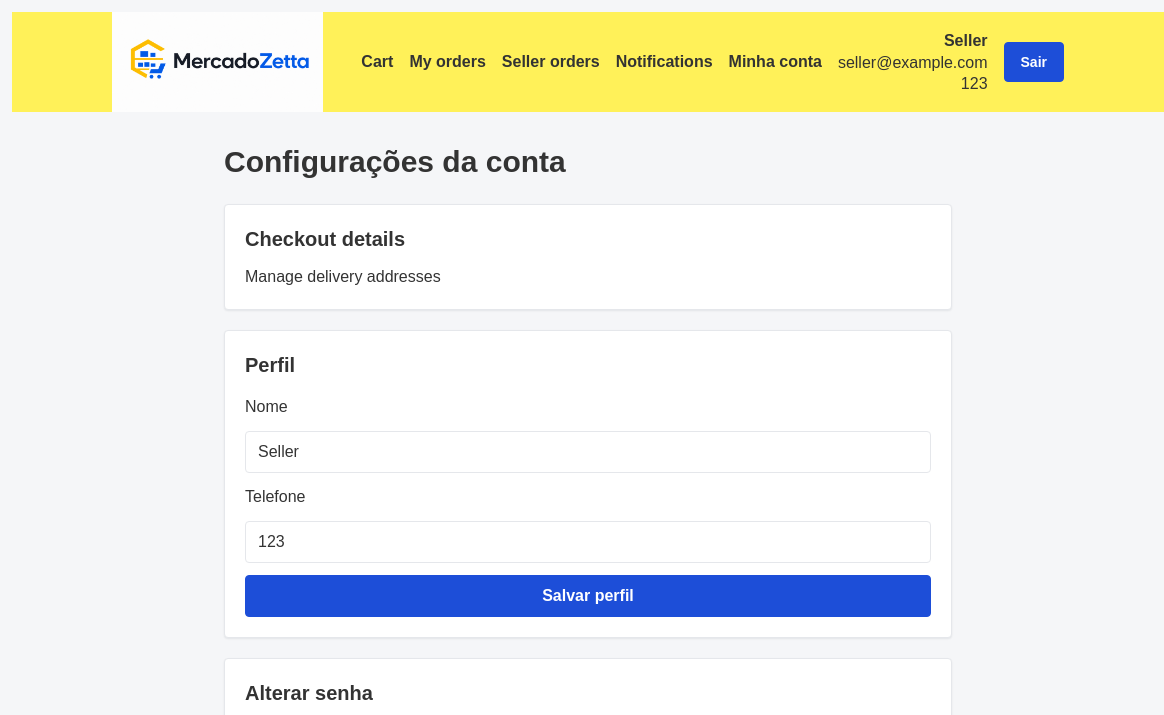
Scenario: AccountSettings › updates the profile and refreshes the in-memory identity
Replace the text in the field labelled "Nome" with "Updated Seller" at (588, 452), box [245,431,931,473]
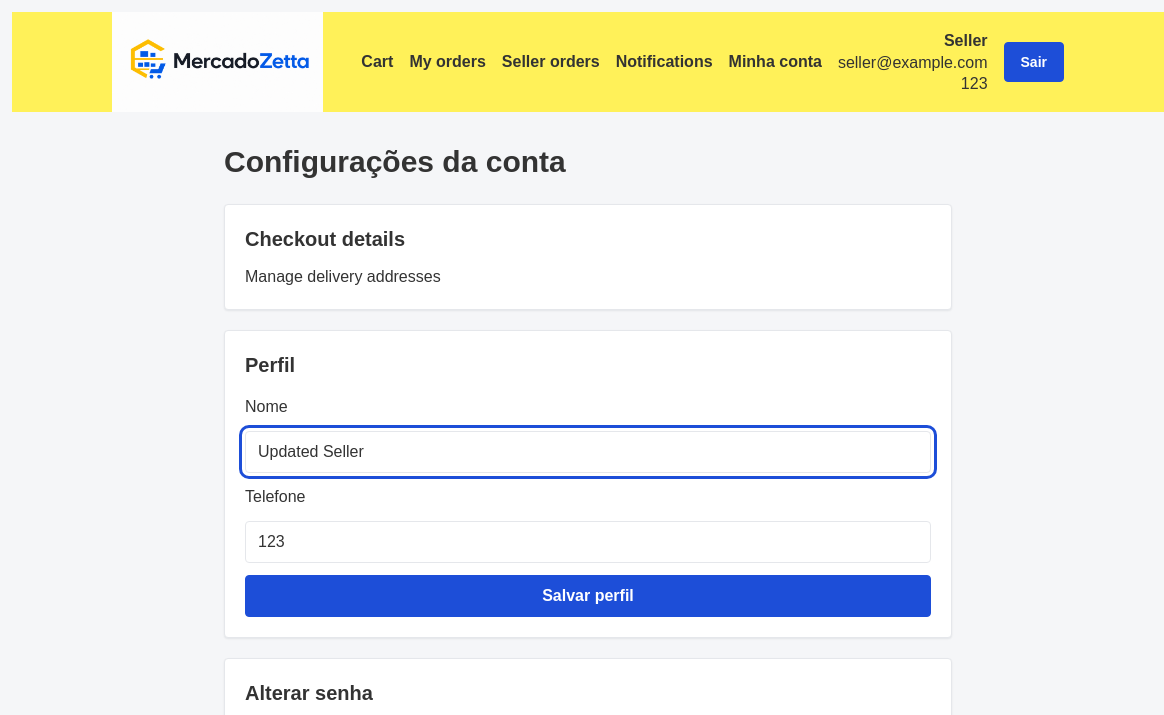
Clear the field labelled "Telefone" at (588, 542), box [245,521,931,563]
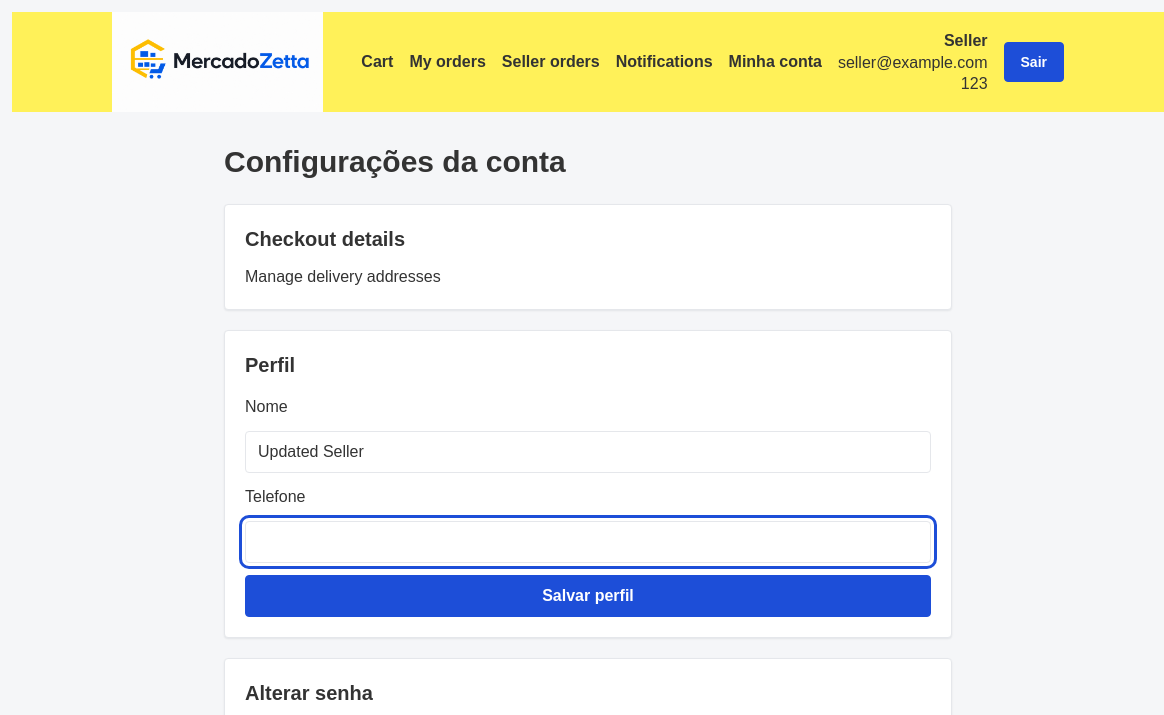
Click the button "Salvar perfil" at (588, 596), box [245,575,931,617]
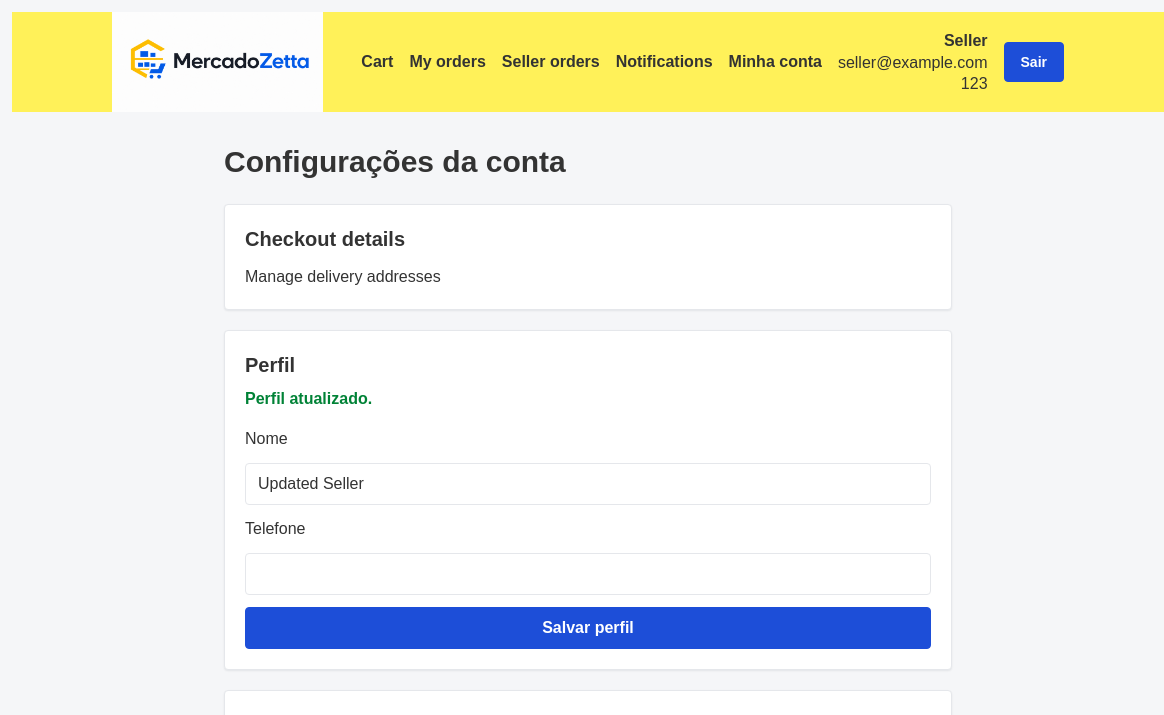
Result: the message reads "Perfil atualizado." at [245,390,372,407]
